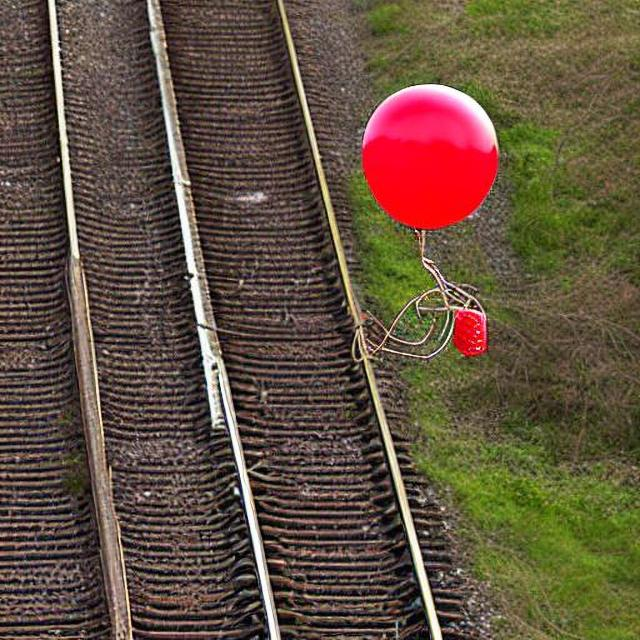balloon: (356, 83, 498, 258)
